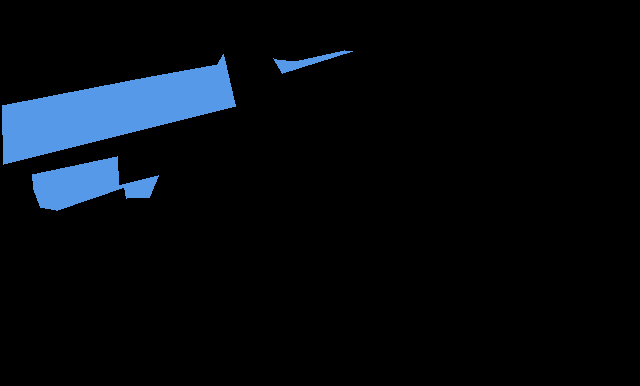Airplane: (2, 50, 352, 211)
